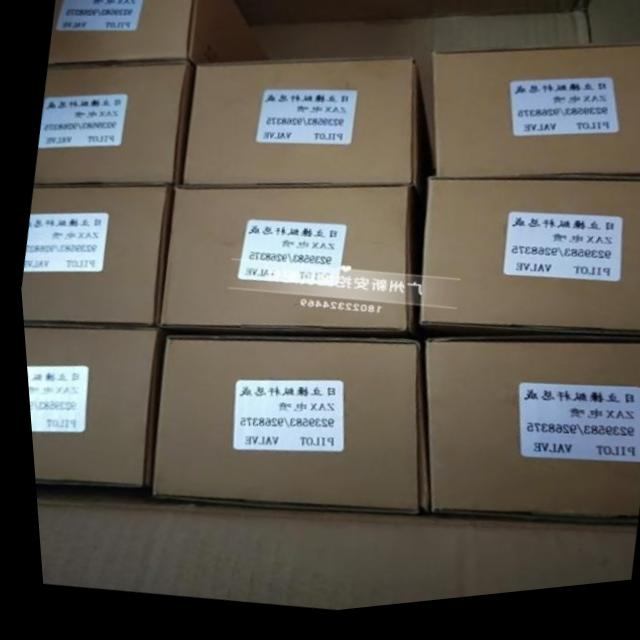box: (140, 336, 415, 526), (414, 350, 640, 531), (156, 187, 410, 344), (414, 186, 640, 348), (174, 69, 427, 201), (427, 62, 640, 195), (19, 329, 158, 495), (17, 185, 172, 329), (32, 66, 189, 191), (48, 0, 258, 70)
